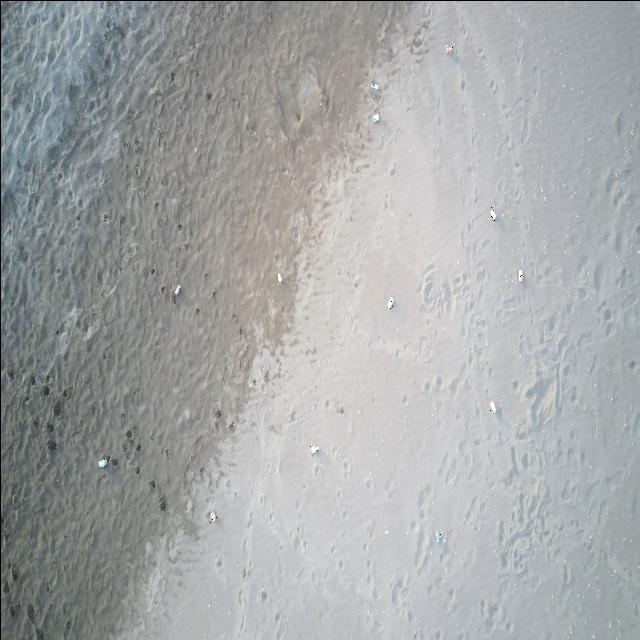Garbage: (369, 80, 379, 91), (444, 43, 453, 55), (98, 457, 108, 467), (435, 531, 443, 542), (489, 206, 495, 220), (488, 400, 495, 412), (173, 284, 180, 295), (517, 268, 523, 280), (310, 444, 319, 452), (387, 296, 393, 308), (373, 112, 379, 123), (208, 512, 215, 521), (276, 272, 281, 283)
